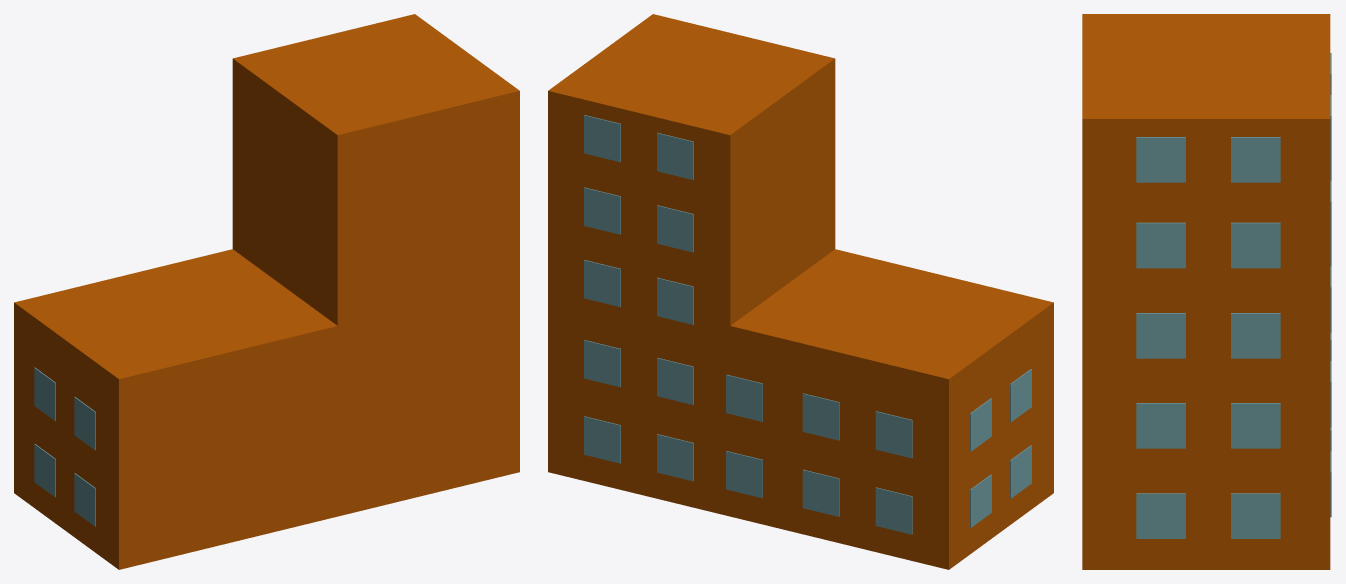
File: Building_004_City_002.fbx
The picture shows the model from 3 angles, left to right: view 1: azimuth 30°, elevation 25°; view 2: azimuth 150°, elevation 25°; view 3: azimuth 270°, elevation 25°; orthographic projection. The views are drawn at different scales.
Parts seen in each view (by area): view 1: Building_004_City_002; view 2: Building_004_City_002; view 3: Building_004_City_002.
Boxes of the visible parts, x1,y1,x2,y2 form: Building_004_City_002: (14,14,519,569); Building_004_City_002: (548,14,1053,569); Building_004_City_002: (1082,14,1331,569).
Bounding box in the file's own units: 1105 × 1000 × 501.
